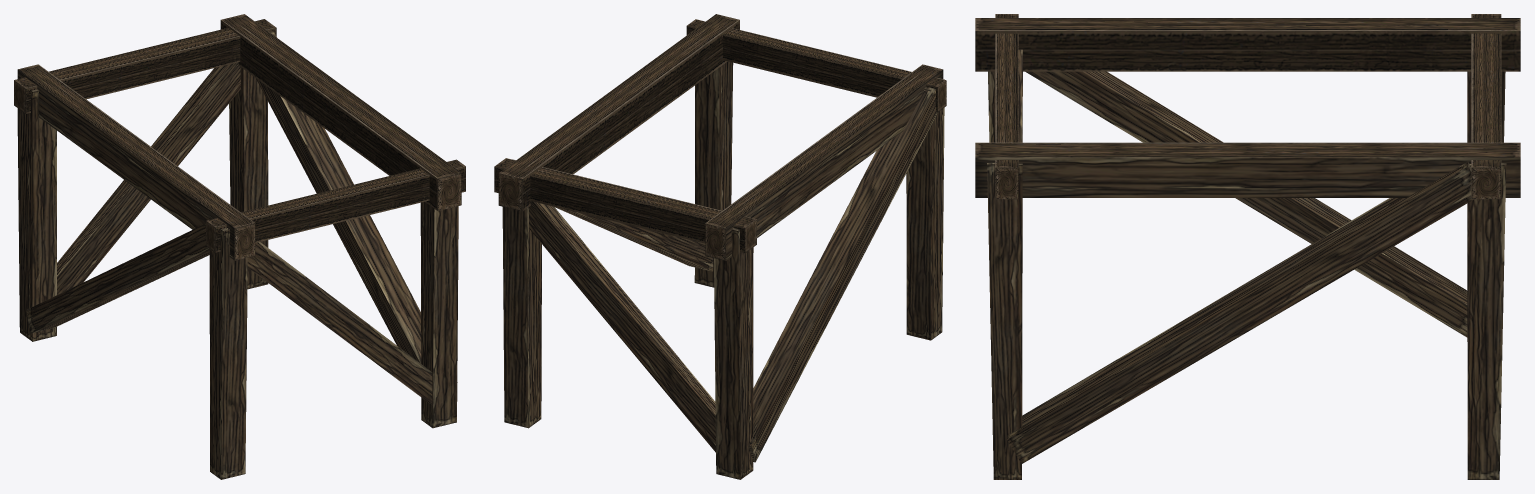
The model's file is Wood_4X4X6_02.fbx.
3 renders of one model, left to right at view 1: azimuth 30°, elevation 25°; view 2: azimuth 150°, elevation 25°; view 3: azimuth 270°, elevation 25°, orthographic. The views are drawn at different scales.
Parts seen in each view (by area): view 1: Wood_4X4X6_02; view 2: Wood_4X4X6_02; view 3: Wood_4X4X6_02.
Boxes of the visible parts, x1,y1,x2,y2 form: Wood_4X4X6_02: (14,14,465,479); Wood_4X4X6_02: (494,14,946,479); Wood_4X4X6_02: (975,14,1520,479).
Size of the model in its own units: 4 by 3.9 by 6.
